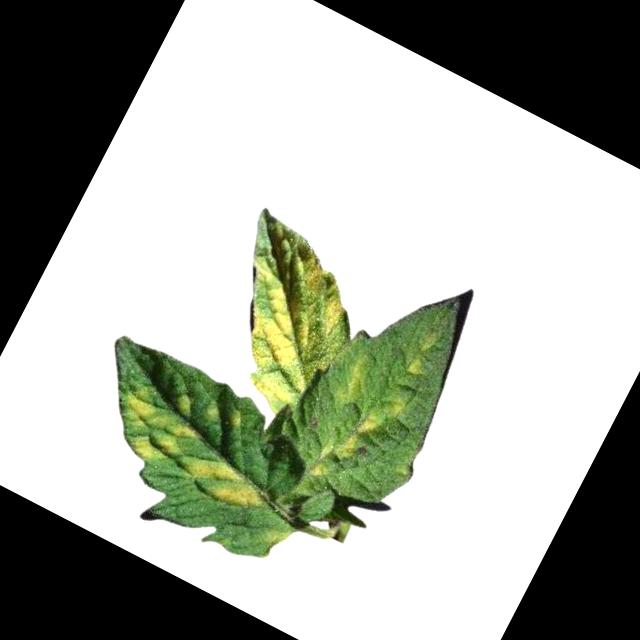Leaf_Mold: (192, 216, 380, 428), (104, 381, 206, 476), (175, 444, 272, 524), (328, 346, 378, 410), (335, 401, 386, 463), (304, 439, 341, 483), (261, 521, 293, 553), (383, 388, 412, 421), (224, 406, 252, 434), (404, 352, 429, 378)
